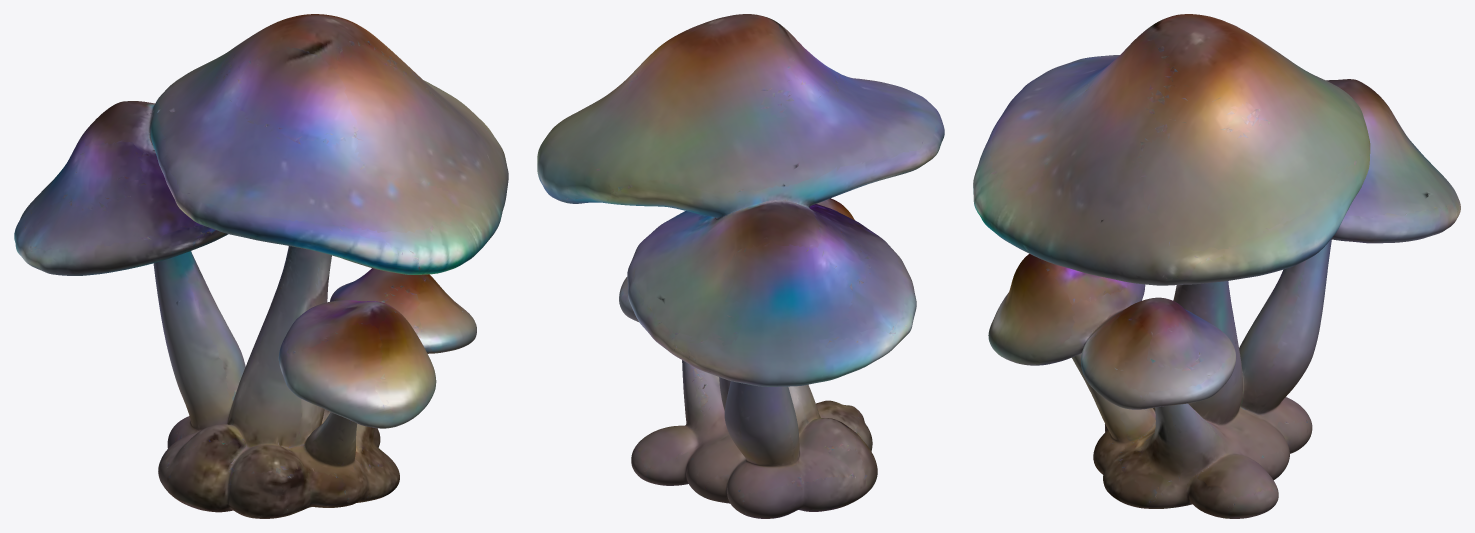
3 renders of one model, left to right at view 1: azimuth 30°, elevation 25°; view 2: azimuth 150°, elevation 25°; view 3: azimuth 270°, elevation 25°, orthographic. The views are drawn at different scales.
Bounding box in the file's own units: 1.82 × 2 × 1.89.
Materials: 1 (1 with a texture image).
